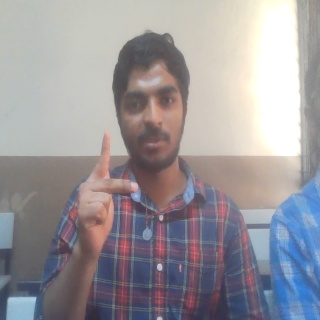Okay: (74, 128, 139, 255)
